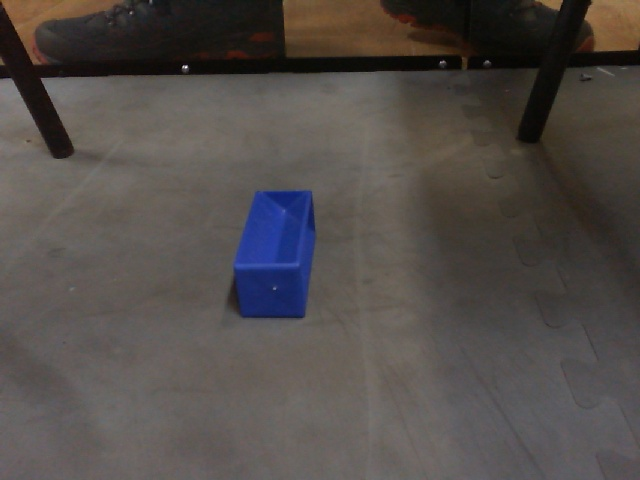BlueSample: (229, 187, 318, 321)
